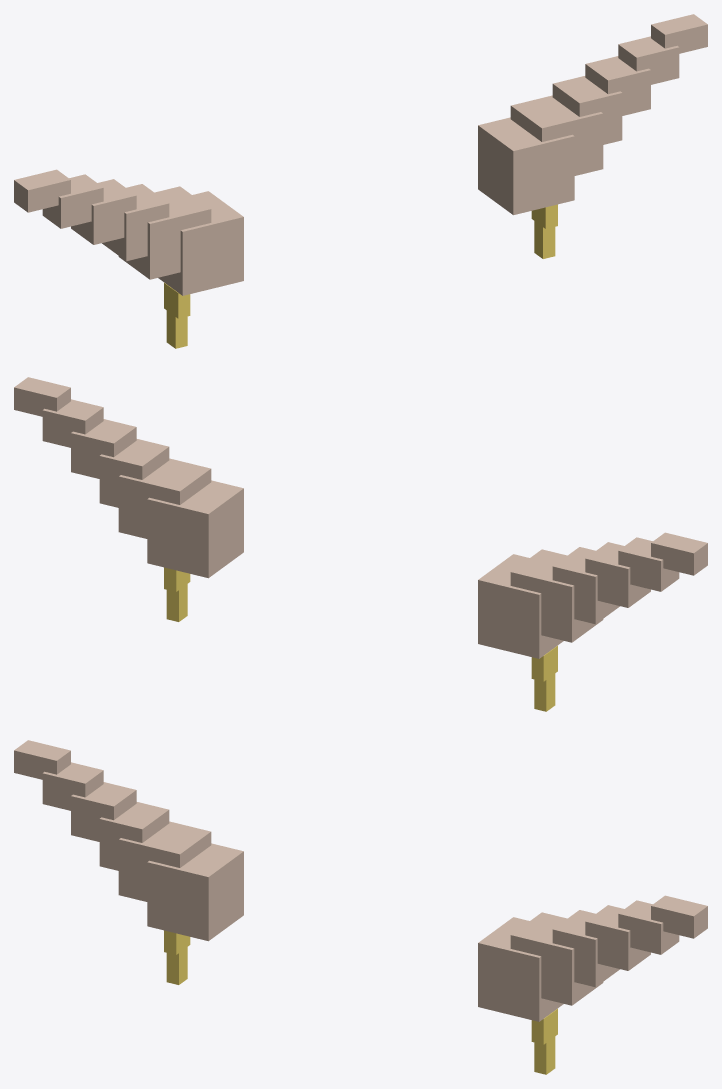
File: orelhas_elfo.glb
3 renders of one model, top to bottom at view 1: azimuth 30°, elevation 25°; view 2: azimuth 150°, elevation 25°; view 3: azimuth 330°, elevation 25°, orthographic.
Parts seen in each view (by area): view 1: orelhas_elfo; view 2: orelhas_elfo; view 3: orelhas_elfo.
Part boxes in pixels (x1=…): orelhas_elfo: x1=14, y1=14, x2=707, y2=348; orelhas_elfo: x1=14, y1=377, x2=707, y2=711; orelhas_elfo: x1=14, y1=740, x2=707, y2=1074.
Bounding box in the file's own units: 1.11 × 0.3075 × 0.1.
